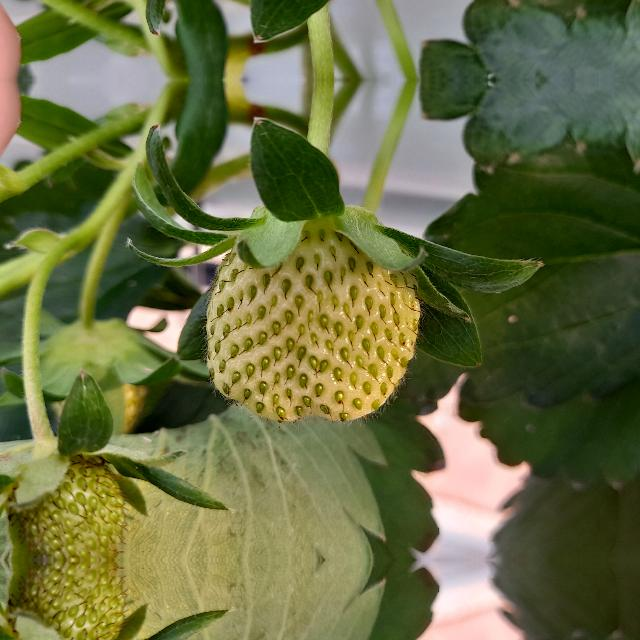Health_25: (204, 213, 420, 423), (15, 451, 127, 559), (15, 561, 127, 640)
